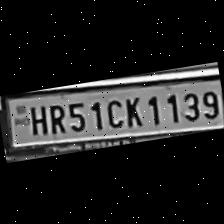1: (140, 90, 164, 128), (158, 89, 182, 125), (84, 96, 106, 131)
3: (176, 86, 202, 124)
5: (62, 98, 88, 134)
9: (196, 84, 220, 120)
C: (102, 94, 126, 130)
H: (24, 100, 48, 138)
K: (119, 92, 146, 128)
R: (43, 100, 67, 136)
